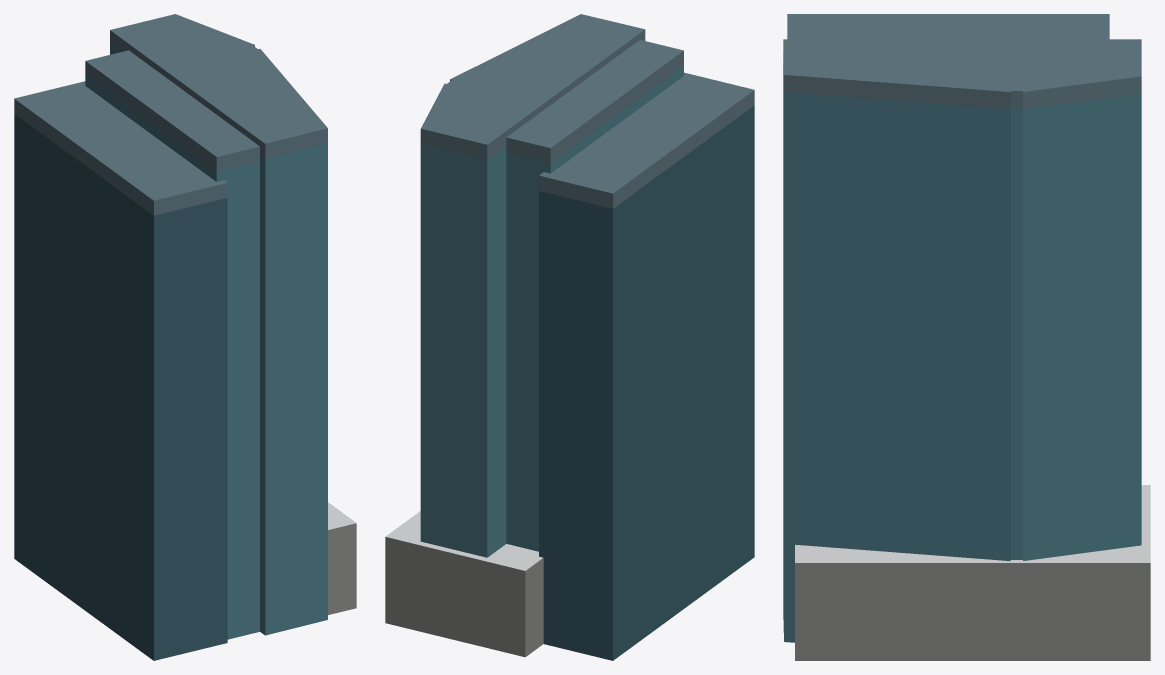
File: 222_main.glb
3 views of the same model, side by side, from view 1: azimuth 30°, elevation 25°; view 2: azimuth 150°, elevation 25°; view 3: azimuth 270°, elevation 25° (orthographic). The views are drawn at different scales.
Visible parts, largest first — view 1: 222_Main; view 2: 222_Main; view 3: 222_Main.
Boxes of the visible parts, x1,y1,x2,y2 form: 222_Main: (14,14,356,660); 222_Main: (385,14,754,660); 222_Main: (783,14,1150,660).
Size of the model in its own units: 43.18 by 98.3 by 57.75.
